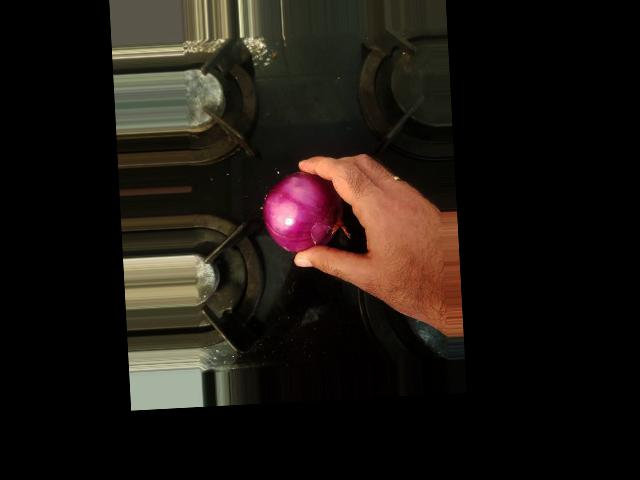onion: (214, 104, 303, 193)
